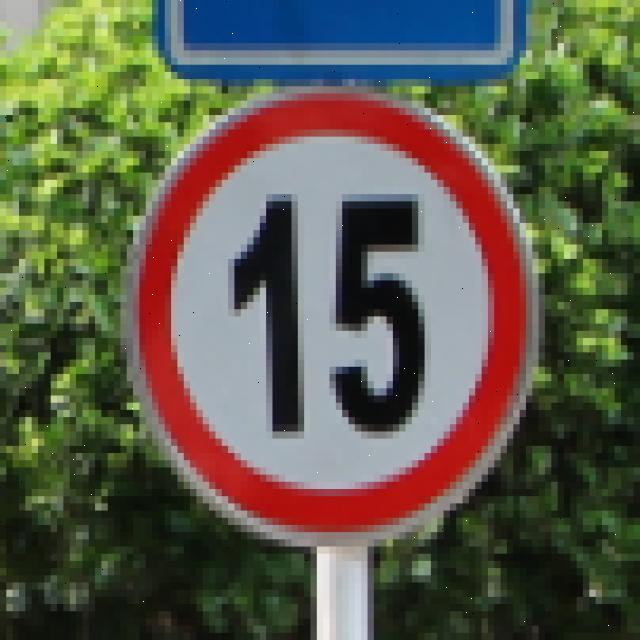speed limit 20: (129, 94, 531, 549)
